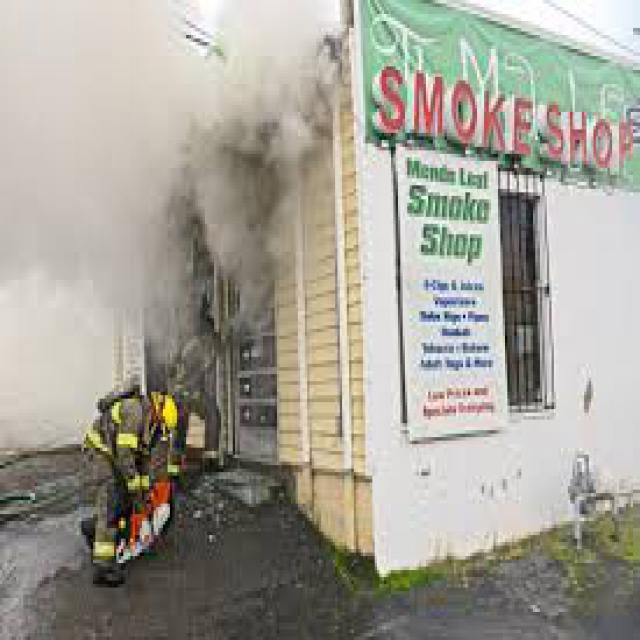Smoke: (0, 0, 343, 342)
